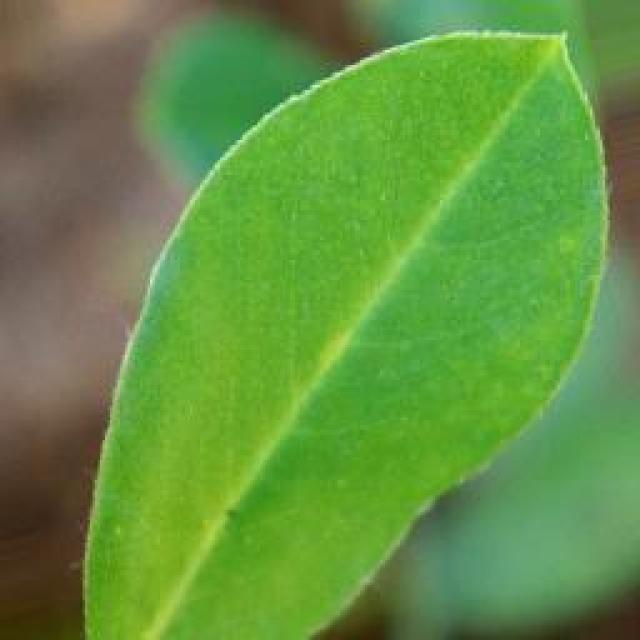Yellow_and_black_sigatoka: (82, 23, 598, 640)
